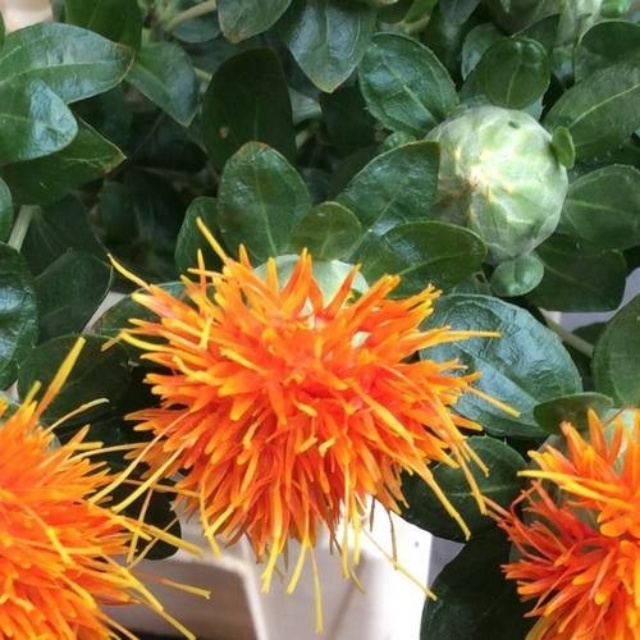obstacle: (123, 147, 532, 536), (380, 26, 611, 397), (15, 4, 151, 333)
